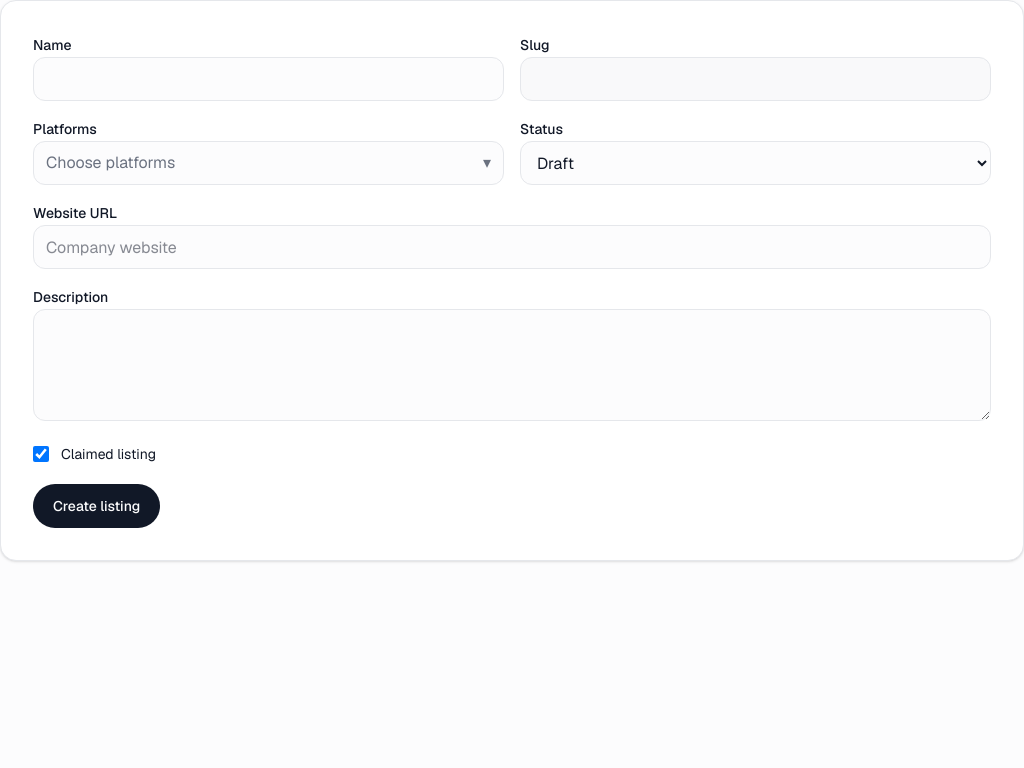
Test: ListingForm › shows platform urls only for selected platforms
This screenshot has width=1024, height=768.
Click the button "Choose platforms ▾" at (111, 162), box [33,141,504,185]
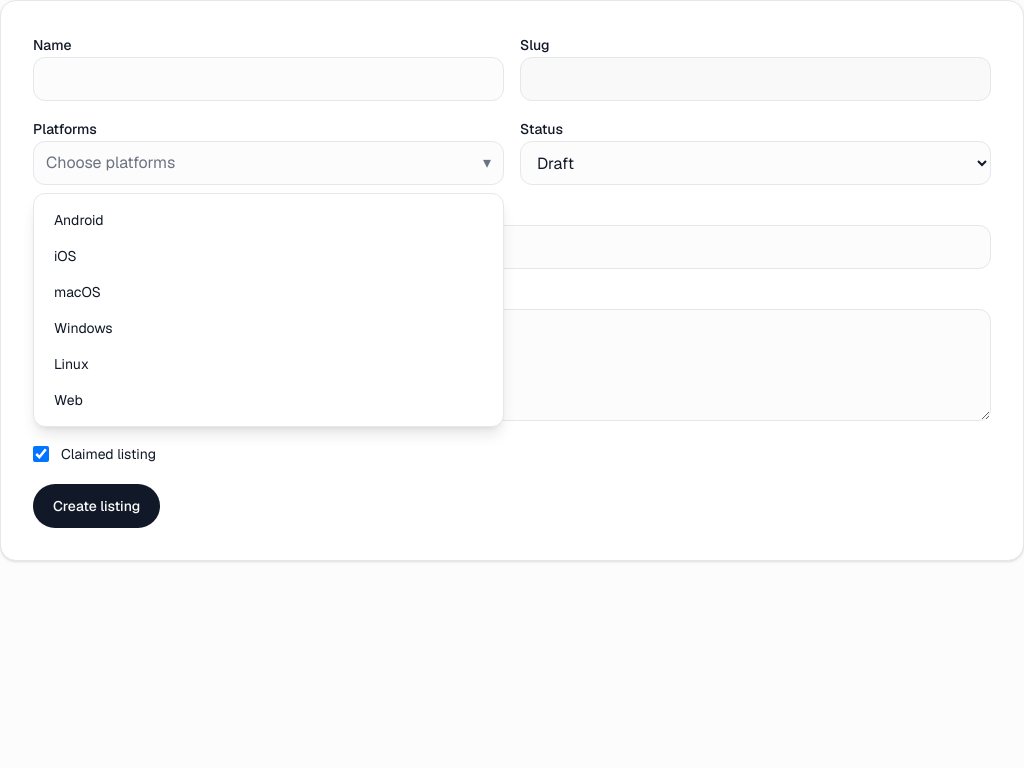
Click the menu item "Web" at (68, 400), box [42,382,495,418]
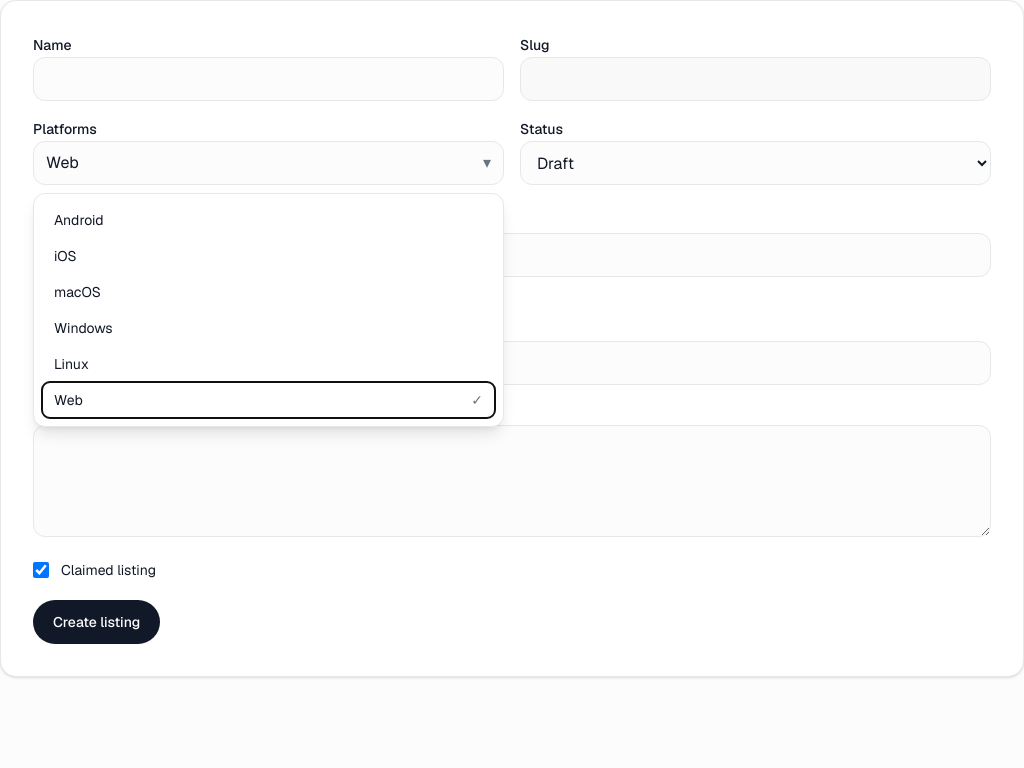
Click the menu item "iOS" at (65, 256), box [42,238,495,274]
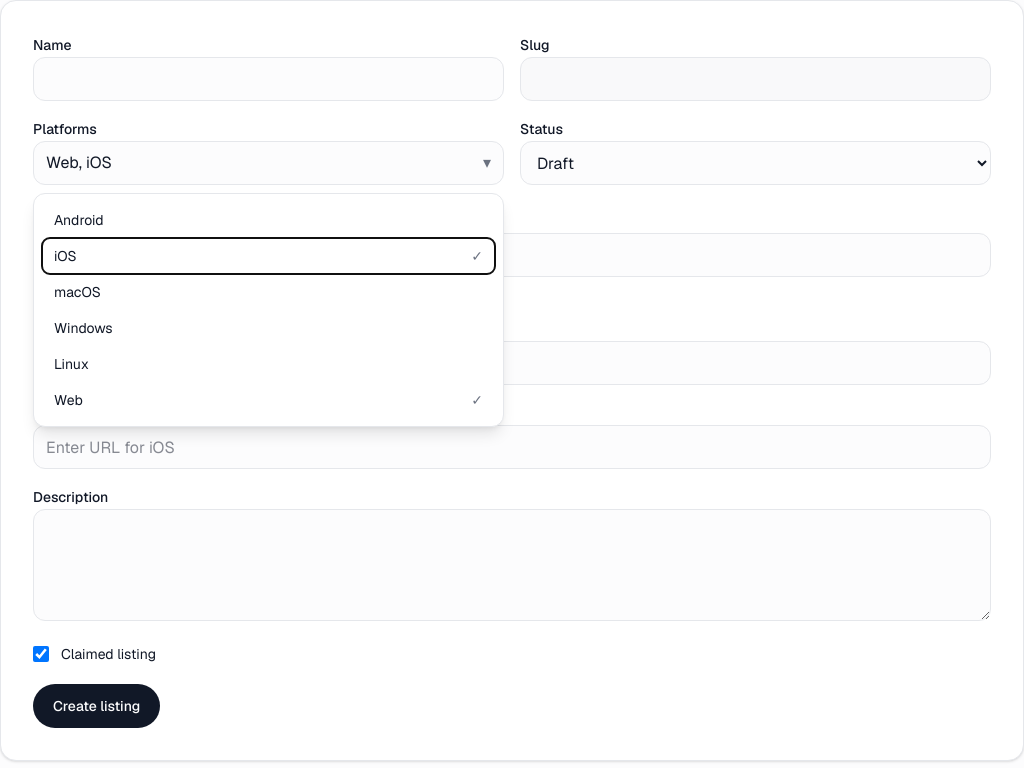
Now the field named "Web URL" is shown, box [33,341,991,385]
Now the field named "iOS URL" is shown, box [33,425,991,469]
